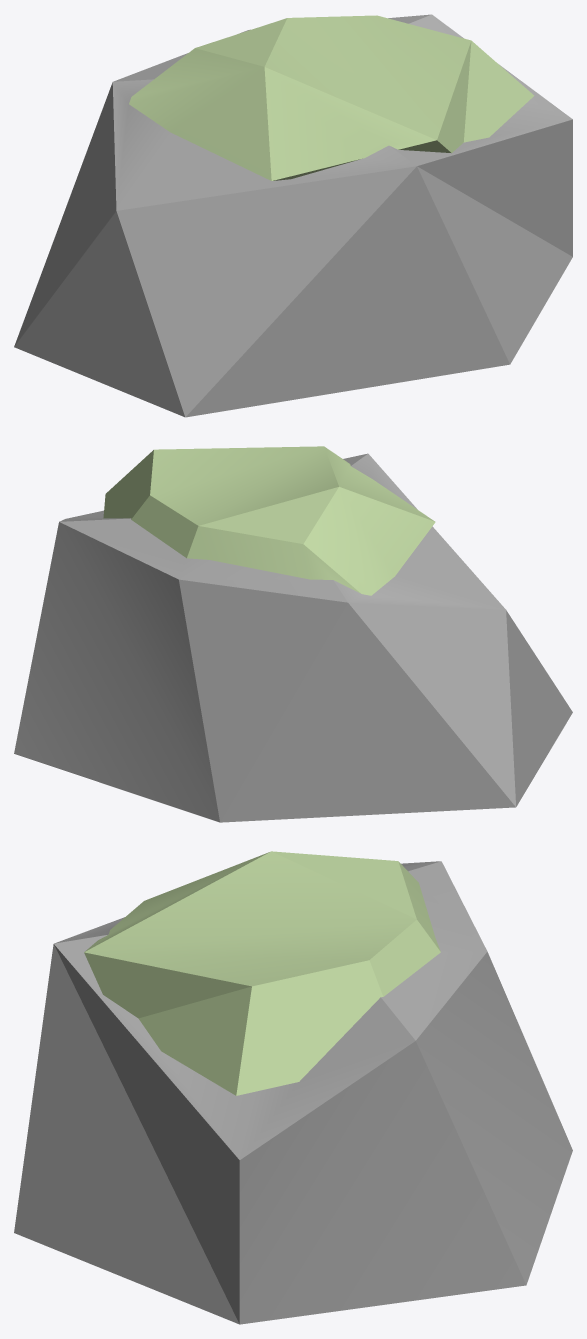
Rendered from Stone_Meidum_Moss.fbx.
The picture shows the model from 3 angles, top to bottom: view 1: azimuth 30°, elevation 25°; view 2: azimuth 150°, elevation 25°; view 3: azimuth 270°, elevation 25°; orthographic projection. The views are drawn at different scales.
Parts seen in each view (by area): view 1: Stone_Medium_Moss; view 2: Stone_Medium_Moss; view 3: Stone_Medium_Moss.
Boxes of the visible parts, x1,y1,x2,y2 form: Stone_Medium_Moss: (14, 14, 572, 417); Stone_Medium_Moss: (14, 446, 572, 822); Stone_Medium_Moss: (14, 851, 572, 1324).
Bounding box in the file's own units: 1.88 × 1.09 × 1.49.
